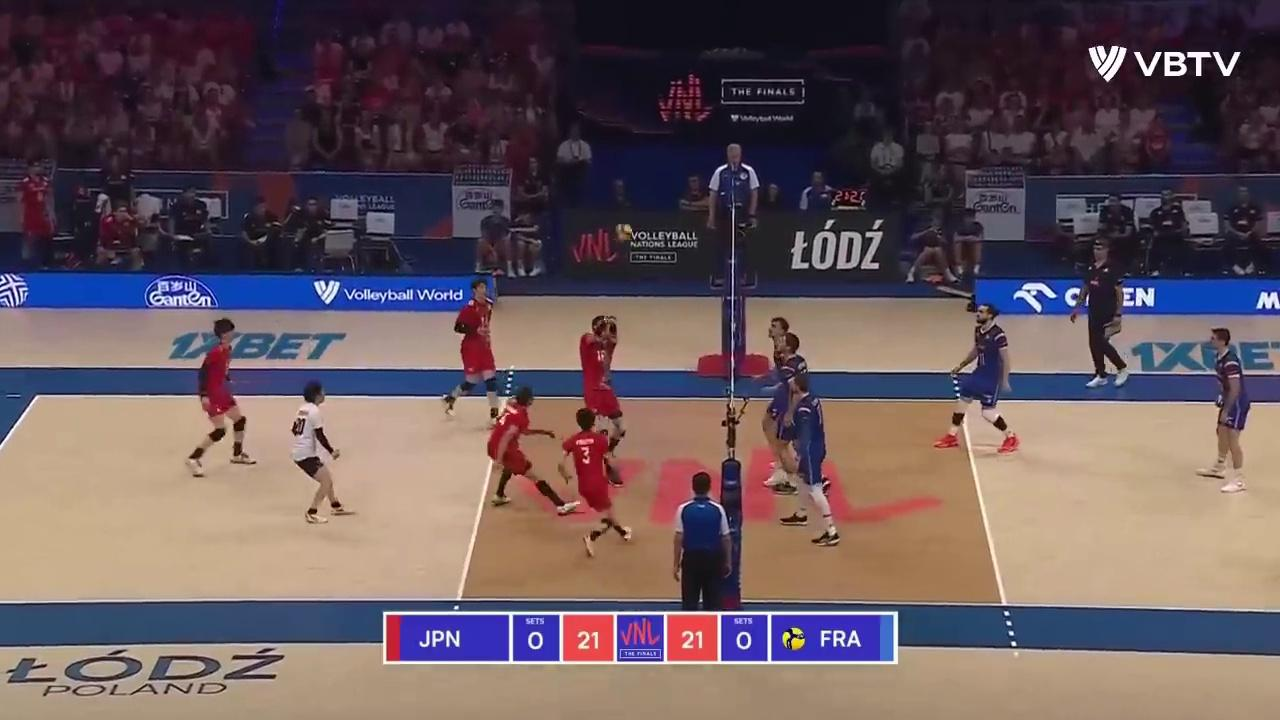ball: (617, 223, 632, 243)
